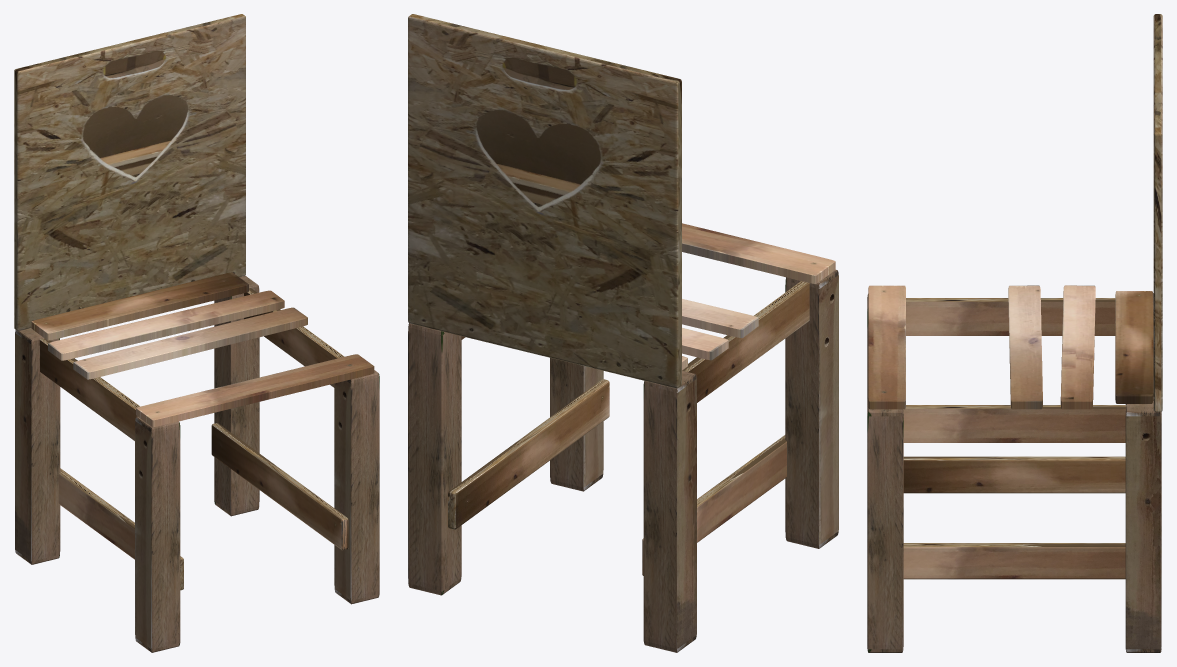
The model's file is the_chair_of_time.fbx.
3 renders of one model, left to right at view 1: azimuth 30°, elevation 25°; view 2: azimuth 150°, elevation 25°; view 3: azimuth 270°, elevation 25°, orthographic. The views are drawn at different scales.
Visible parts, largest first — view 1: Cube, Cube.005, Cube.003, Cube.004, Cube.001, Cube.002, Cube.009, Cube.010, Cube.012, Cube.011, Cube.008, Cube.013 (+1 smaller); view 2: Cube, Cube.004, Cube.002, Cube.005, Cube.012, Cube.008, Cube.003, Cube.001, Cube.013, Cube.011, Cube.010; view 3: Cube.002, Cube.003, Cube.013, Cube.012, Cube.007, Cube.008, Cube.001, Cube.009, Cube.010, Cube.011, Cube.
Part boxes in pixels (<box>): Cube: <box>14,14,245,330</box>; Cube.005: <box>135,416,180,652</box>; Cube.003: <box>334,370,379,604</box>; Cube.004: <box>15,328,60,564</box>; Cube.001: <box>136,354,374,427</box>; Cube.002: <box>214,275,259,516</box>; Cube.009: <box>31,272,248,340</box>; Cube.010: <box>48,290,284,360</box>; Cube.012: <box>211,423,348,550</box>; Cube.011: <box>73,307,307,379</box>; Cube.008: <box>39,338,139,440</box>; Cube.013: <box>58,468,183,590</box>; Cube: <box>408,14,681,388</box>; Cube.004: <box>643,371,696,652</box>; Cube.002: <box>408,323,461,595</box>; Cube.005: <box>785,270,838,548</box>; Cube.012: <box>448,379,609,529</box>; Cube.008: <box>682,281,809,402</box>; Cube.003: <box>550,358,603,491</box>; Cube.001: <box>682,223,835,283</box>; Cube.013: <box>642,435,786,575</box>; Cube.011: <box>682,299,758,337</box>; Cube.010: <box>682,328,728,360</box>; Cube.002: <box>1125,397,1161,652</box>; Cube.003: <box>867,398,903,652</box>; Cube.013: <box>903,456,1125,493</box>; Cube.012: <box>903,543,1125,579</box>; Cube.007: <box>903,405,1126,442</box>; Cube.008: <box>906,298,1115,335</box>; Cube.001: <box>868,285,905,409</box>; Cube.009: <box>1115,291,1153,403</box>; Cube.010: <box>1060,285,1095,409</box>; Cube.011: <box>1008,285,1042,409</box>; Cube: <box>1153,14,1162,412</box>.
Size of the model in its own units: 47 by 94.85 by 48.82.
Materials: 1 (1 with a texture image).
